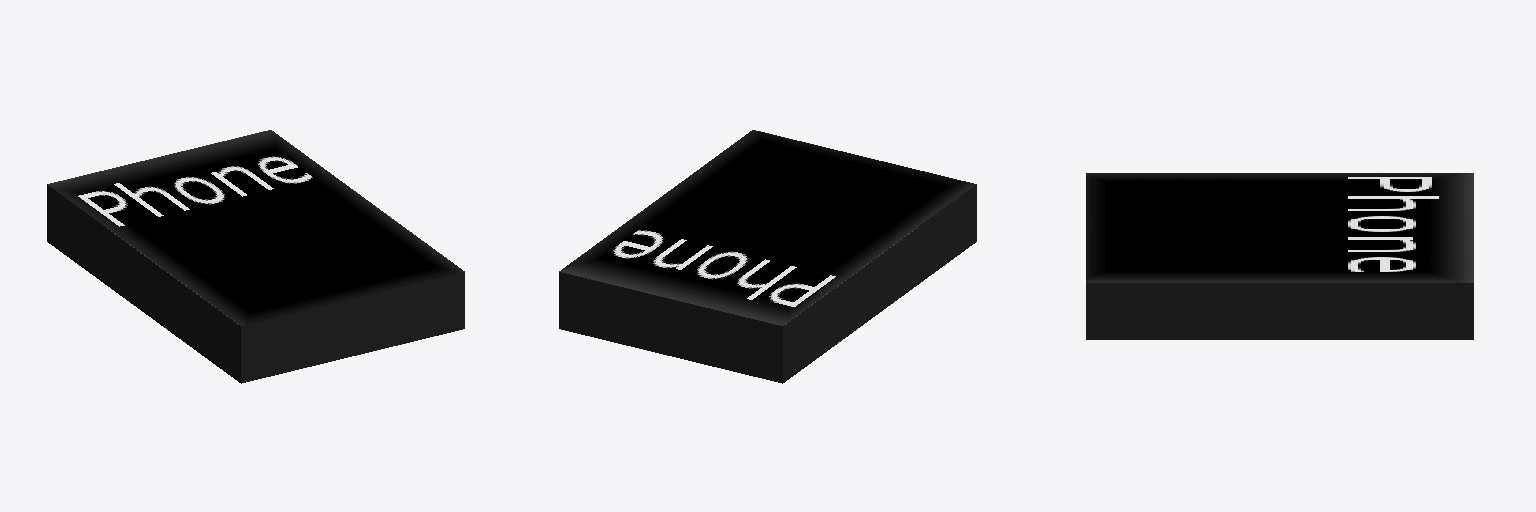
3 renders of one model, left to right at view 1: azimuth 30°, elevation 25°; view 2: azimuth 150°, elevation 25°; view 3: azimuth 270°, elevation 25°, orthographic.
Visible parts, largest first — view 1: Cube_Cube.001; view 2: Cube_Cube.001; view 3: Cube_Cube.001.
Boxes of the visible parts, x1,y1,x2,y2 form: Cube_Cube.001: [47, 130, 464, 383]; Cube_Cube.001: [559, 130, 976, 383]; Cube_Cube.001: [1086, 173, 1473, 339].
Bounding box in the file's own units: 4 × 1 × 6.
Materials: 1 (1 with a texture image).